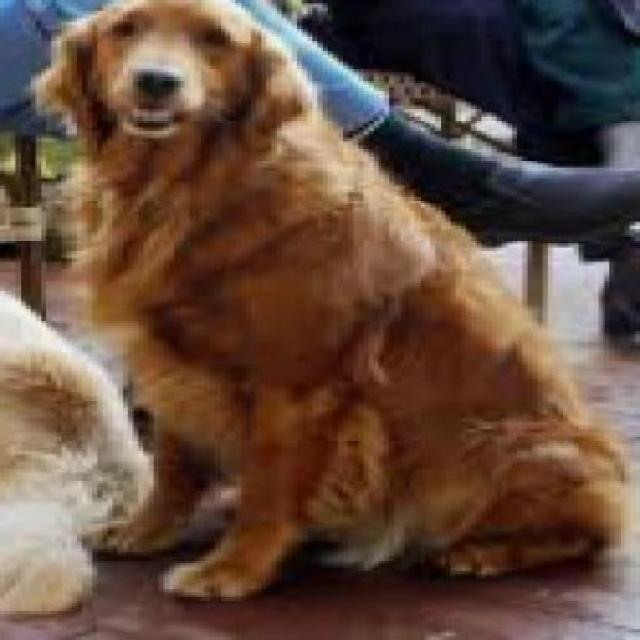Dog: (20, 0, 635, 605)
